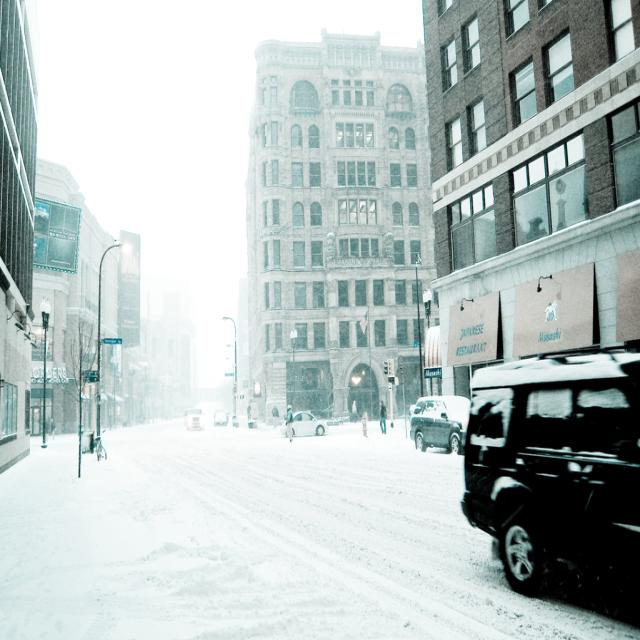car: (213, 413, 225, 424)
